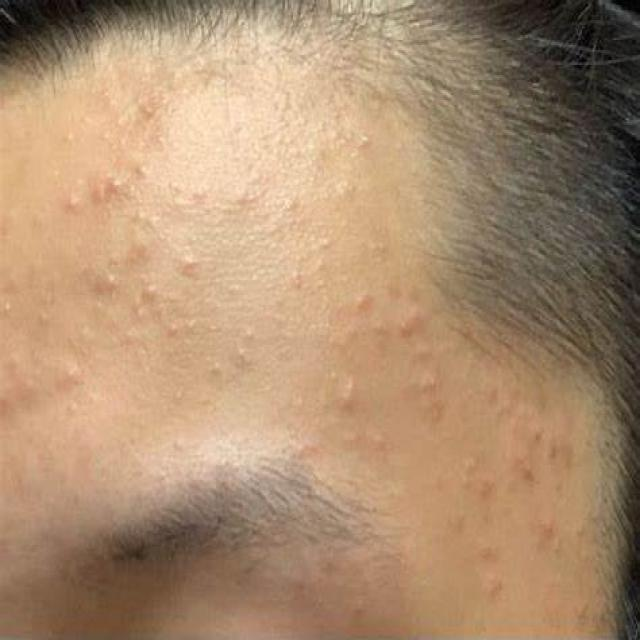fungal: (279, 176, 592, 606), (5, 97, 270, 430)
